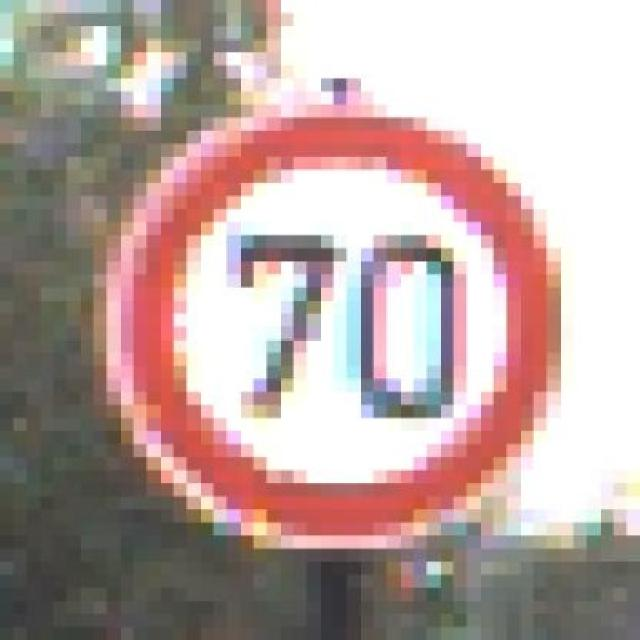forb_speed_over_70: (116, 110, 562, 538)
